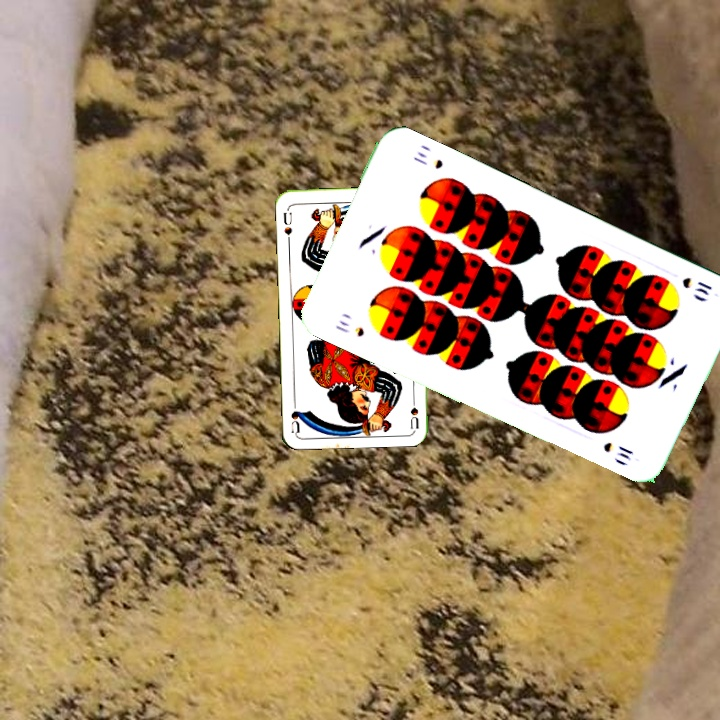S10: (678, 273, 715, 298), (331, 316, 367, 340)
SU: (406, 389, 421, 430), (279, 208, 295, 245)
